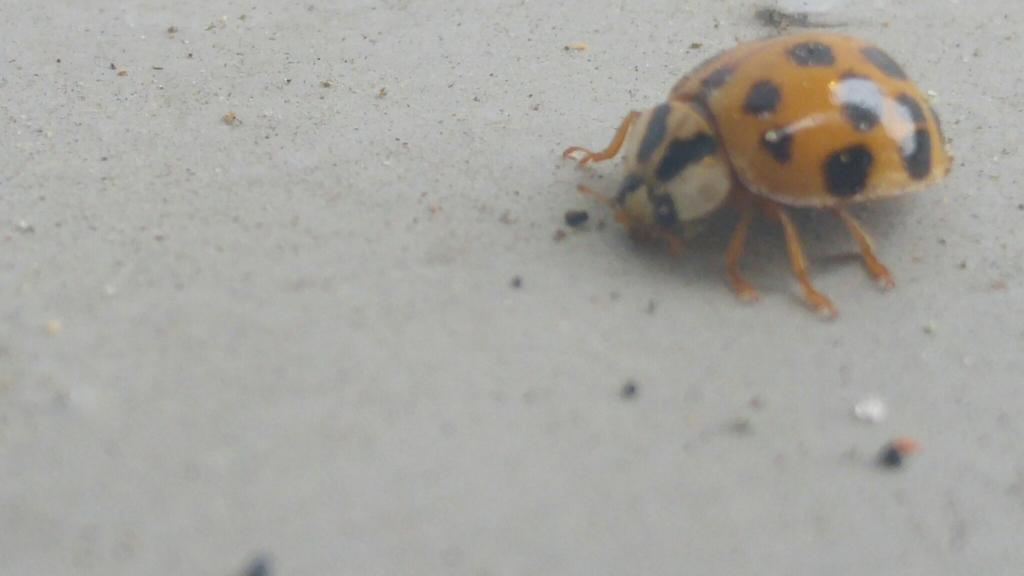ladybug: (561, 29, 959, 319)
